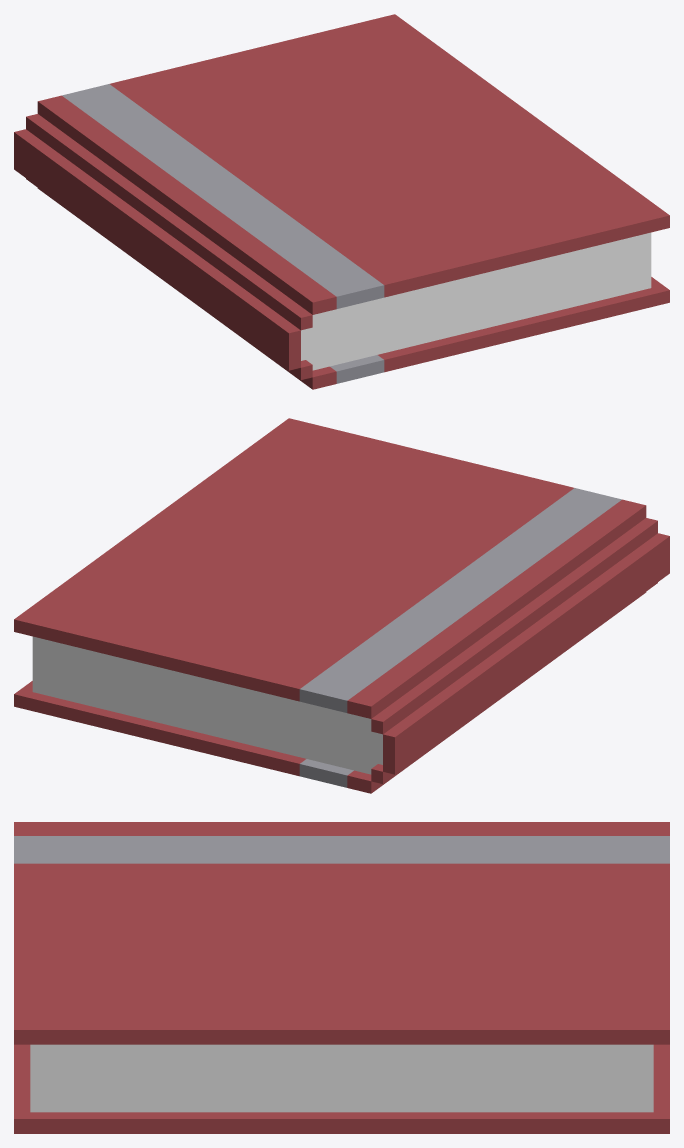
Rendered from Book02.fbx.
The picture shows the model from 3 angles, top to bottom: view 1: azimuth 30°, elevation 25°; view 2: azimuth 150°, elevation 25°; view 3: azimuth 270°, elevation 25°; orthographic projection. The views are drawn at different scales.
Parts seen in each view (by area): view 1: Book02; view 2: Book02; view 3: Book02.
Part boxes in pixels (x1,y1,x2,y2): Book02: (14,14,669,389); Book02: (14,418,669,793); Book02: (14,822,669,1133).
Size of the model in its own units: 200 by 43.75 by 250.
